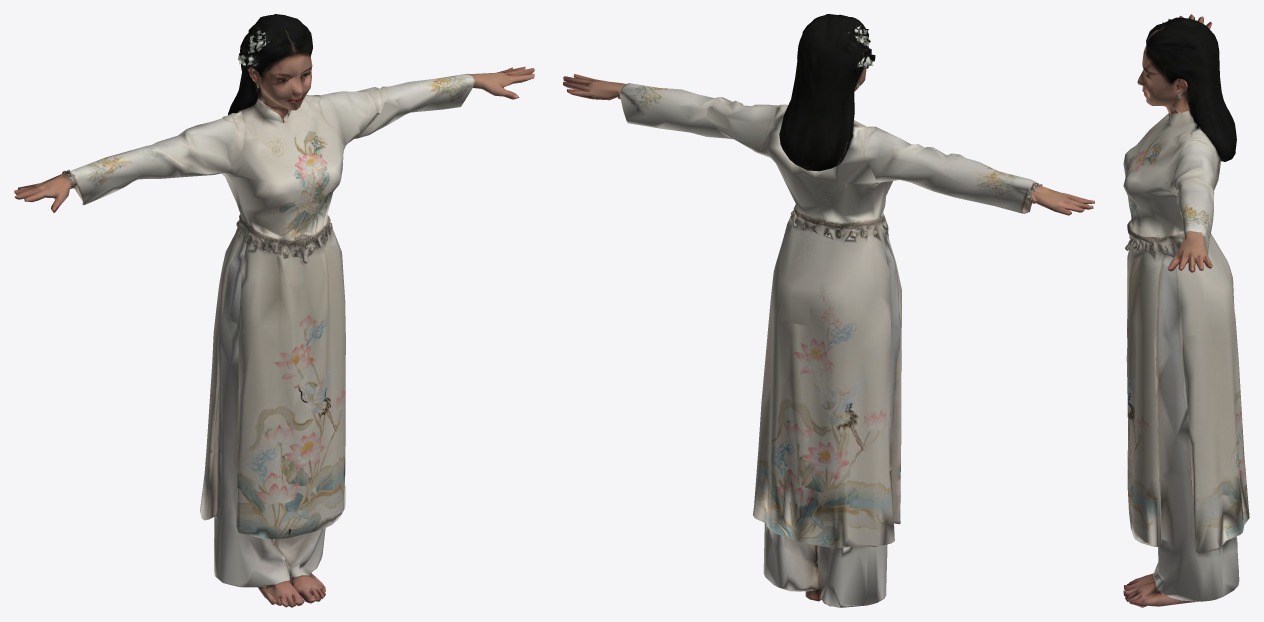
File: tam.glb
3 renders of one model, left to right at view 1: azimuth 30°, elevation 25°; view 2: azimuth 150°, elevation 25°; view 3: azimuth 270°, elevation 25°, orthographic.
Visible parts, largest first — view 1: tripo_node_658c694a-378c-4fd1-9dd0-008b122c4b76; view 2: tripo_node_658c694a-378c-4fd1-9dd0-008b122c4b76; view 3: tripo_node_658c694a-378c-4fd1-9dd0-008b122c4b76.
Part boxes in pixels (x1,y1,x2,y2): tripo_node_658c694a-378c-4fd1-9dd0-008b122c4b76: [14, 14, 534, 607]; tripo_node_658c694a-378c-4fd1-9dd0-008b122c4b76: [563, 14, 1094, 607]; tripo_node_658c694a-378c-4fd1-9dd0-008b122c4b76: [1123, 14, 1249, 607].
Size of the model in its own units: 0.9352 by 0.9793 by 0.1946.
1 material, 1 textured.
